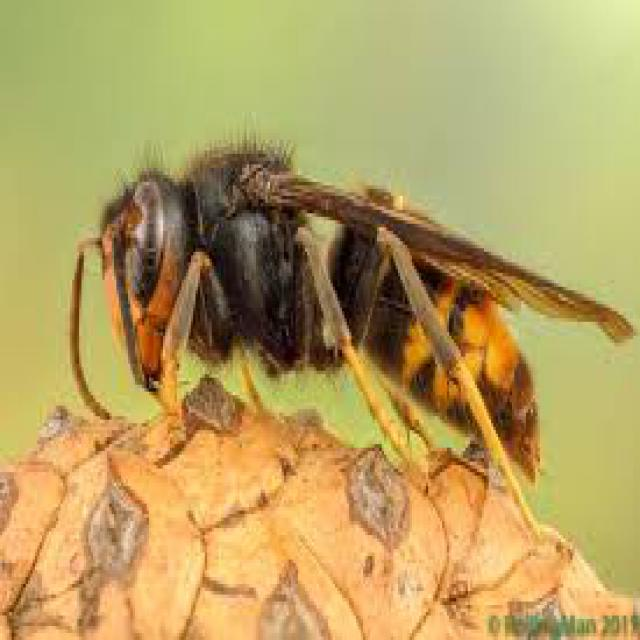Vespa Velutina: (60, 105, 638, 556)
